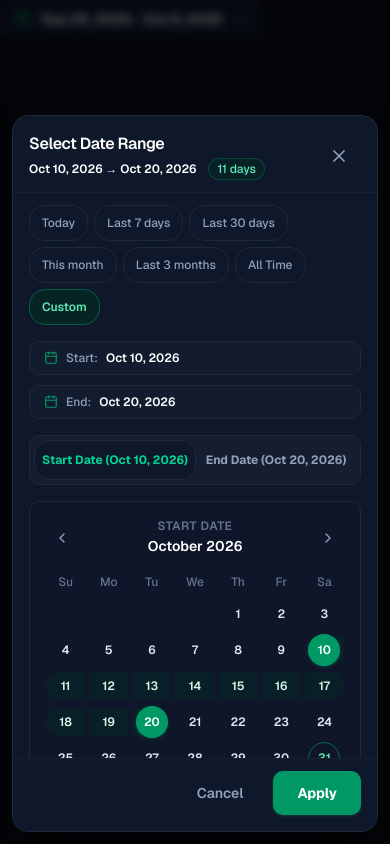
Test case: DateRangePicker › switches between Start Date and End Date in mobile single-month view
The width and height of the screenshot is (390, 844).
Expected: the element named "Start Date calendar" is shown, [29, 501, 361, 758]
Click the button with test id "mobile-cal-tab-end". click: (276, 460)
box: [196, 440, 356, 480]
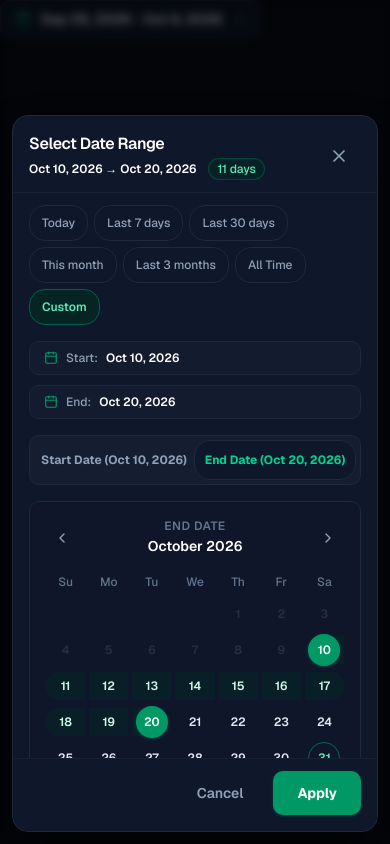
Expected: the element named "End Date calendar" is shown, [29, 501, 361, 758]
